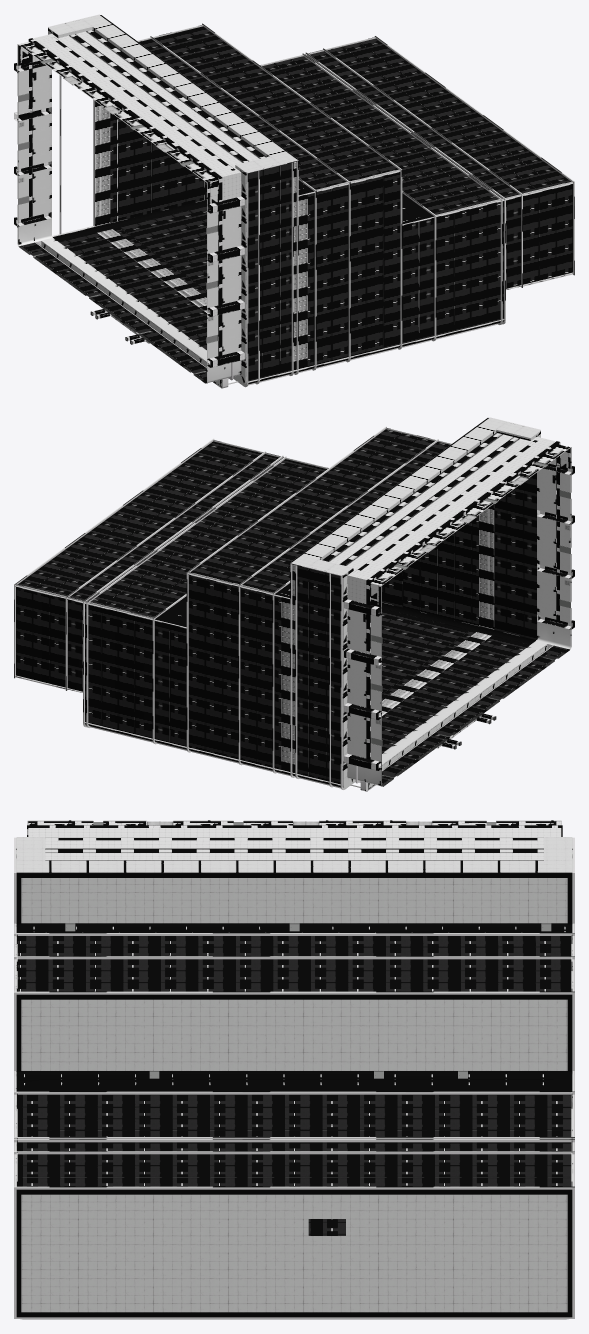
The picture shows the model from 3 angles, top to bottom: view 1: azimuth 30°, elevation 25°; view 2: azimuth 150°, elevation 25°; view 3: azimuth 270°, elevation 25°; orthographic projection. The views are drawn at different scales.
Visible parts, largest first — view 1: S_C_06_03_F.005, S_C_06_03_F.003, S_C_06_03_S.003, S_C_06_03_F.006, S_C_06_03_S.004, S_C_06_03_F.001, S_C_06_03_S.001, S_C_06_03_S.005, S_C_06_03_S.002, S_C_06_03_F.004; view 2: S_C_06_03_F.005, S_C_06_03_S.003, S_C_06_03_F.003, S_C_06_03_F.006, S_C_06_03_S.004, S_C_06_03_F.001, S_C_06_03_S.001, S_C_06_03_S.005, S_C_06_03_S.002, S_C_06_03_F.004; view 3: S_C_06_03_R.001, S_C_06_03_F.005, S_C_06_03_F.003, S_C_06_03_F.004, S_C_06_03_F.001, S_C_06_03_F.006, S_C_06_03_S.004, S_C_06_03_F_playarea.003, S_C_06_03_S.001, S_C_06_03_F_playarea.004, S_C_06_03_S.005.
Boxes of the visible parts, <box> form: S_C_06_03_F.005: <box>59,26,572,381</box>; S_C_06_03_F.003: <box>48,14,574,387</box>; S_C_06_03_S.003: <box>18,65,241,382</box>; S_C_06_03_F.006: <box>48,15,307,370</box>; S_C_06_03_S.004: <box>14,28,246,387</box>; S_C_06_03_F.001: <box>58,30,266,167</box>; S_C_06_03_S.001: <box>18,38,222,356</box>; S_C_06_03_S.005: <box>17,44,237,388</box>; S_C_06_03_S.002: <box>17,58,218,374</box>; S_C_06_03_F.004: <box>402,193,433,224</box>; S_C_06_03_F.005: <box>16,429,536,784</box>; S_C_06_03_S.003: <box>347,468,570,785</box>; S_C_06_03_F.003: <box>14,417,540,789</box>; S_C_06_03_F.006: <box>281,418,540,773</box>; S_C_06_03_S.004: <box>342,431,574,790</box>; S_C_06_03_F.001: <box>322,433,530,570</box>; S_C_06_03_S.001: <box>366,441,570,759</box>; S_C_06_03_S.005: <box>350,447,571,791</box>; S_C_06_03_S.002: <box>370,461,571,778</box>; S_C_06_03_F.004: <box>155,596,186,627</box>; S_C_06_03_R.001: <box>21,878,567,1312</box>; S_C_06_03_F.005: <box>17,936,571,1235</box>; S_C_06_03_F.003: <box>14,837,574,1319</box>; S_C_06_03_F.004: <box>16,1071,572,1091</box>; S_C_06_03_F.001: <box>45,841,543,860</box>; S_C_06_03_F.006: <box>16,837,572,872</box>; S_C_06_03_S.004: <box>28,828,561,841</box>; S_C_06_03_F_playarea.003: <box>16,923,572,932</box>; S_C_06_03_S.001: <box>27,821,562,836</box>; S_C_06_03_F_playarea.004: <box>16,873,572,924</box>; S_C_06_03_S.005: <box>27,820,561,824</box>.
Bounding box in the file's own units: 80.96 × 76.8 × 47.96.
